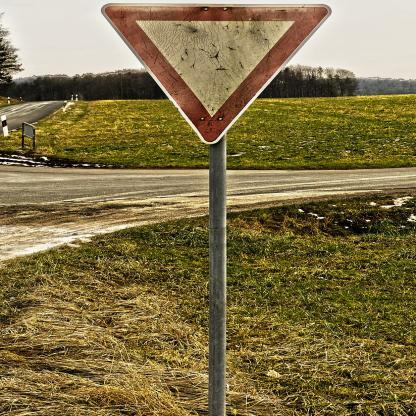obstructed_road_sign: (102, 3, 331, 144)
